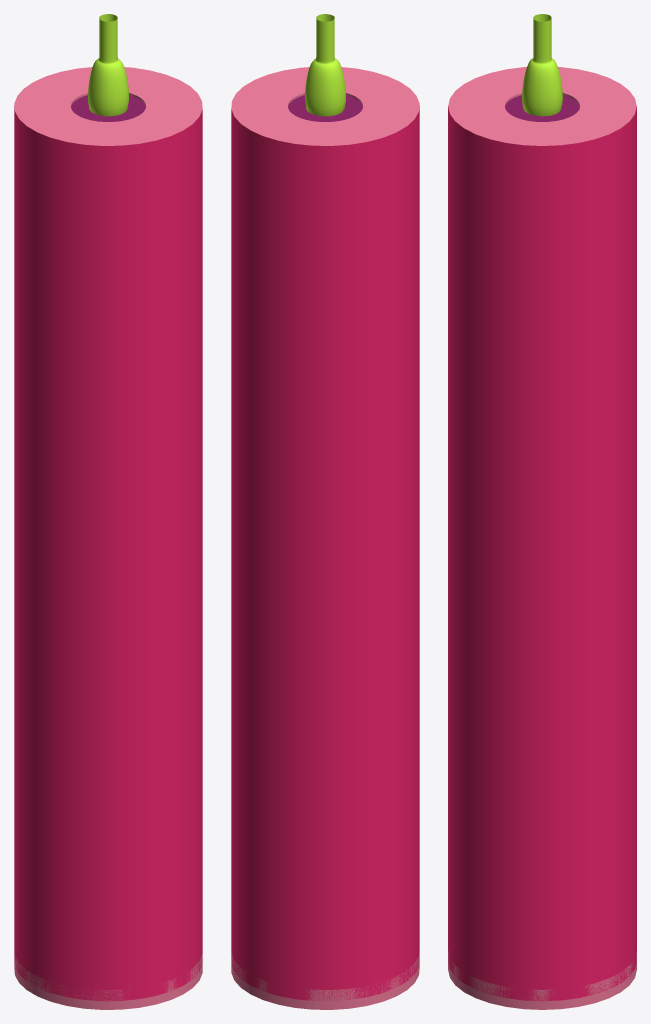
Rendered from projectile.glb.
3 views of the same model, side by side, from view 1: azimuth 30°, elevation 25°; view 2: azimuth 150°, elevation 25°; view 3: azimuth 270°, elevation 25° (orthographic).
Visible parts, largest first — view 1: launchHeight, projector, base; view 2: launchHeight, base, projector; view 3: launchHeight, base, projector.
Boxes of the visible parts, <box> form: launchHeight: <box>14,67,202,1001</box>; projector: <box>88,14,128,116</box>; base: <box>14,954,202,1009</box>; launchHeight: <box>231,67,419,1001</box>; base: <box>231,950,419,1009</box>; projector: <box>305,14,345,116</box>; launchHeight: <box>448,67,636,1001</box>; base: <box>448,950,636,1009</box>; projector: <box>522,14,562,116</box>.
Size of what is drawn, in the model's own units: 2 by 11.13 by 2.
Materials: 1 (1 with a texture image).
